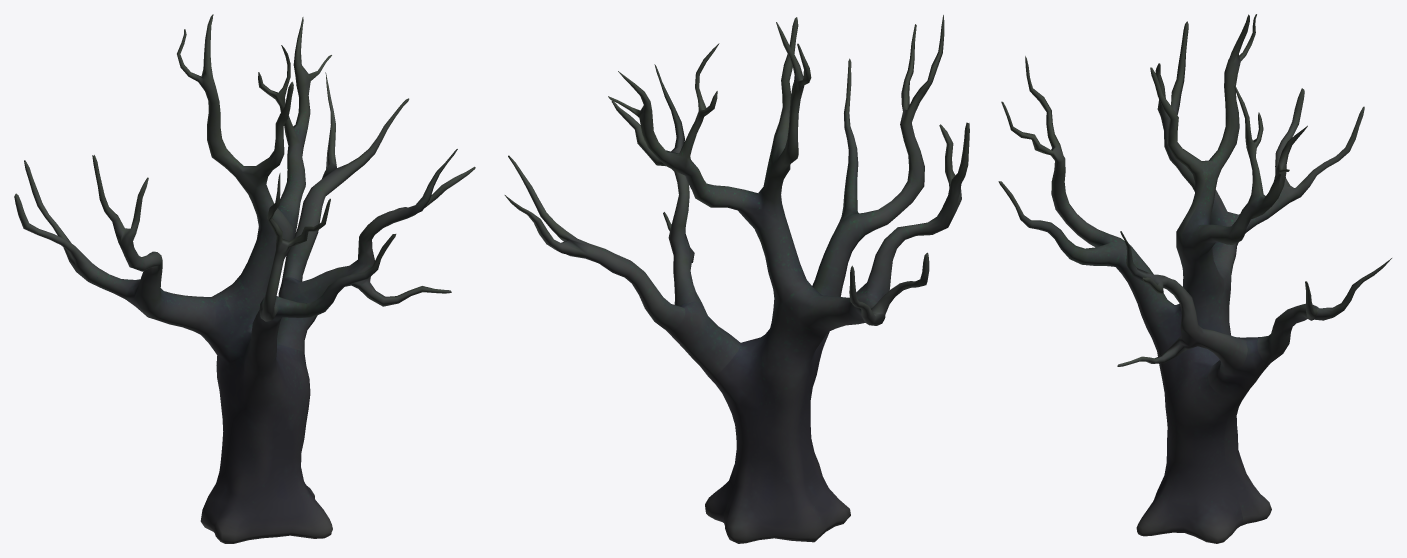
File: Dead_Oak.fbx
3 renders of one model, left to right at view 1: azimuth 30°, elevation 25°; view 2: azimuth 150°, elevation 25°; view 3: azimuth 270°, elevation 25°, orthographic. The views are drawn at different scales.
Parts seen in each view (by area): view 1: Dead_Oak; view 2: Dead_Oak; view 3: Dead_Oak.
Part boxes in pixels (bbox=[...]): Dead_Oak: bbox=[14, 14, 475, 543]; Dead_Oak: bbox=[504, 15, 969, 543]; Dead_Oak: bbox=[998, 14, 1391, 543].
Size of the model in its own units: 1629 by 1955 by 1417.
